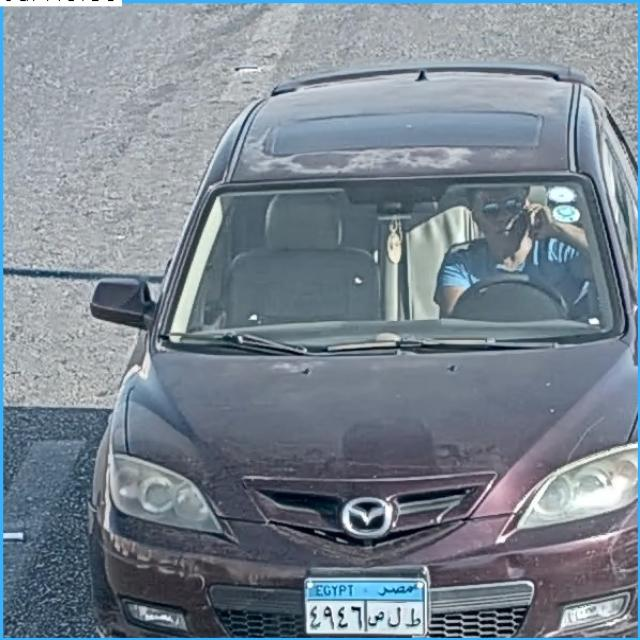windshield: (156, 176, 627, 339)
